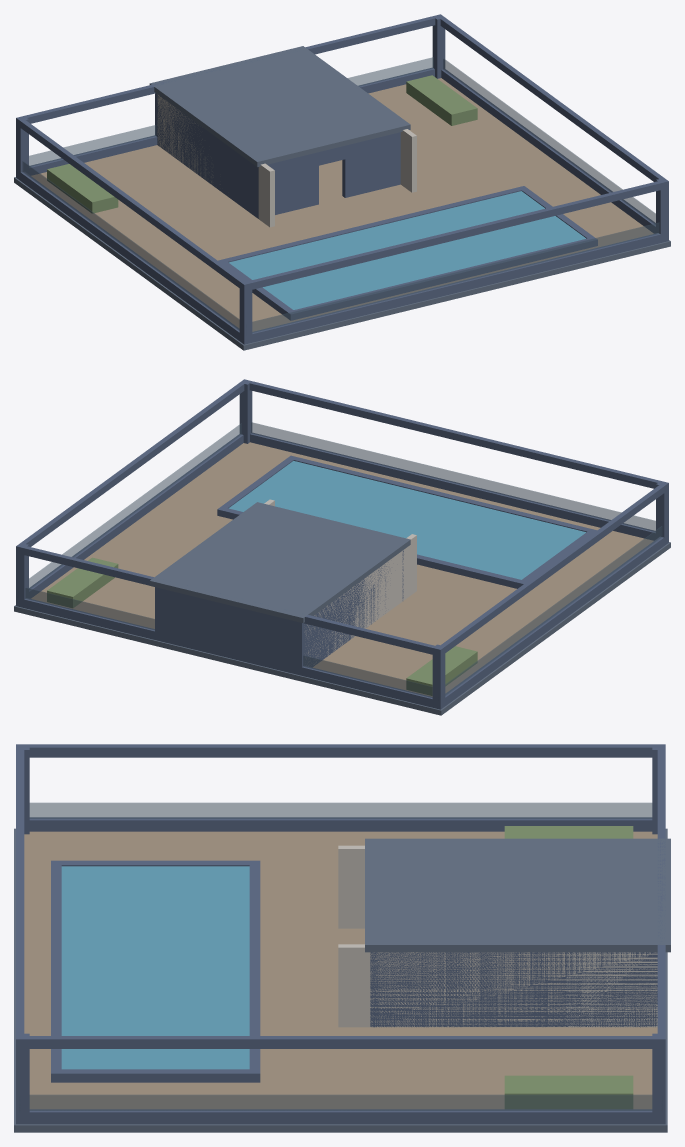
Rendered from office-roof-b.skyline-v2.lod0.glb.
3 views of the same model, one above another, from view 1: azimuth 30°, elevation 25°; view 2: azimuth 150°, elevation 25°; view 3: azimuth 270°, elevation 25° (orthographic). The views are drawn at different scales.
Visible parts, largest first — view 1: office-roof-b; view 2: office-roof-b; view 3: office-roof-b.
Part boxes in pixels (x1,y1,x2,y2): office-roof-b: (14,14,670,350); office-roof-b: (14,379,670,715); office-roof-b: (14,744,670,1132).
Size of the model in its own units: 26.16 by 3.8 by 24.48.
